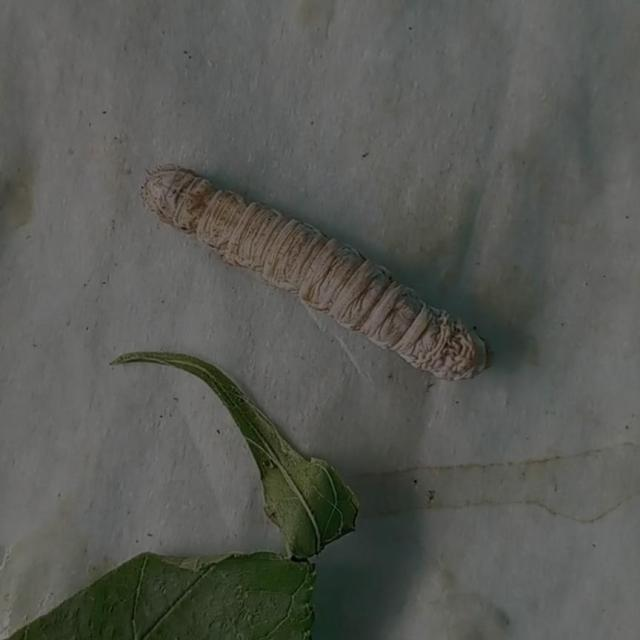Grasserie: (133, 152, 504, 397)
